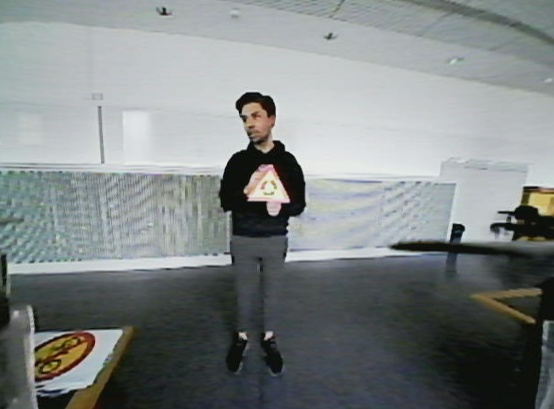roundabout_warning: (242, 161, 295, 207)
